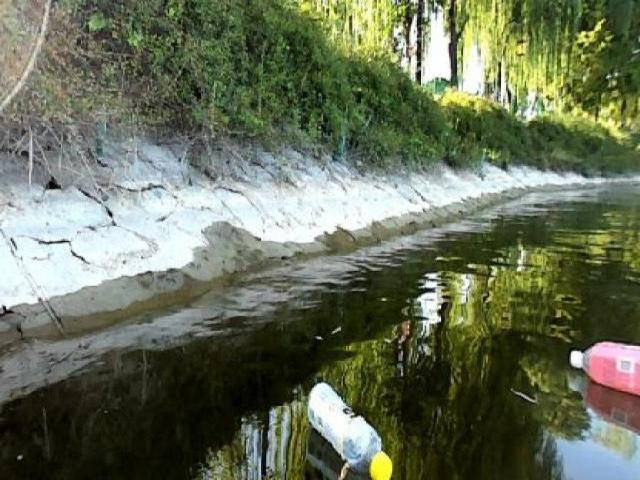Bottle: (297, 376, 404, 480), (562, 338, 640, 401)
